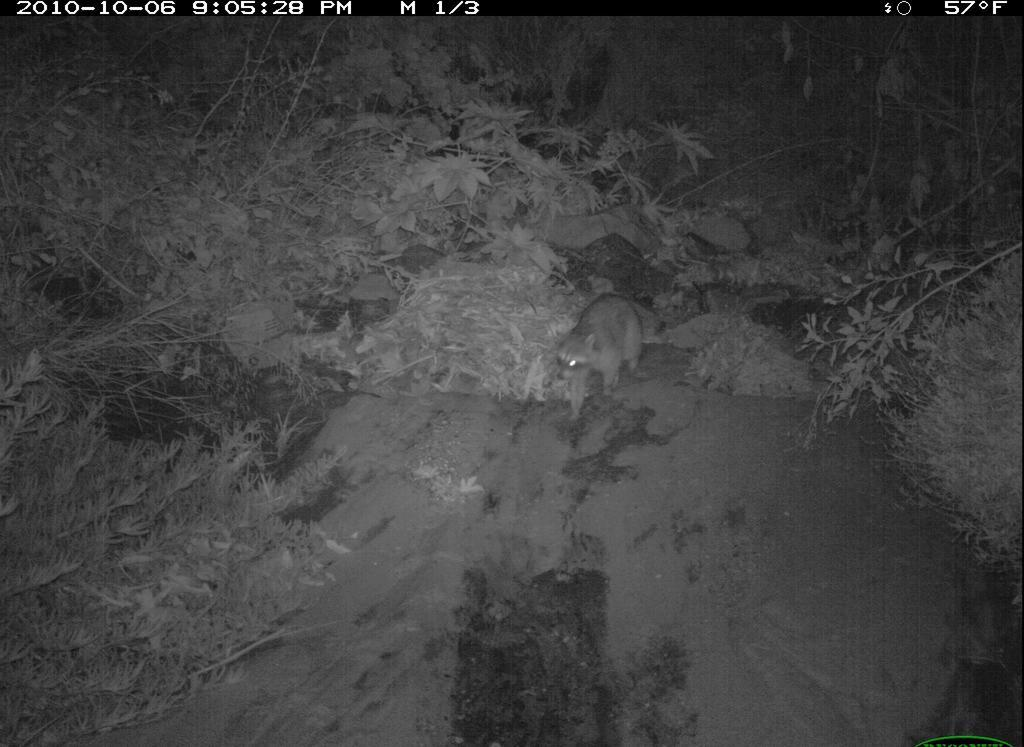raccoon: (548, 290, 658, 424)
